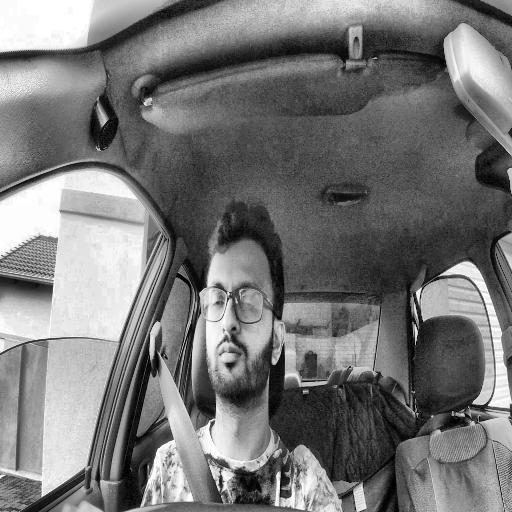drowsy: (198, 202, 286, 406)
